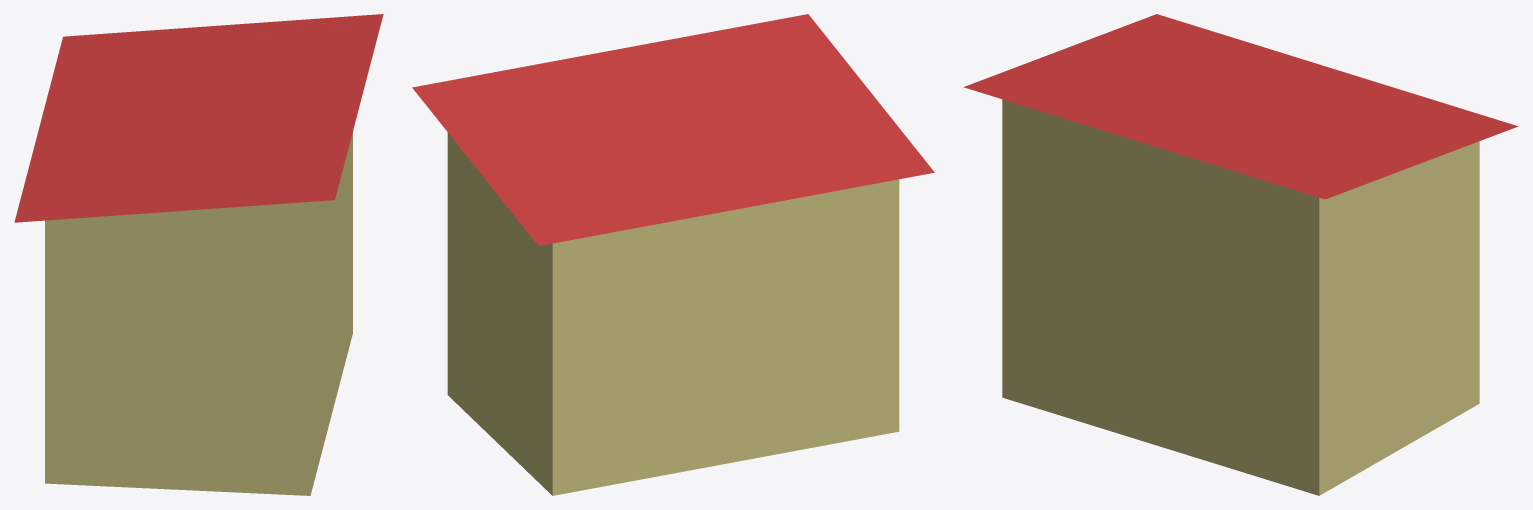
3 views of the same model, side by side, from view 1: azimuth 30°, elevation 25°; view 2: azimuth 150°, elevation 25°; view 3: azimuth 270°, elevation 25° (orthographic). The views are drawn at different scales.
Size of the model in its own units: 9.42 by 9.89 by 6.15.
